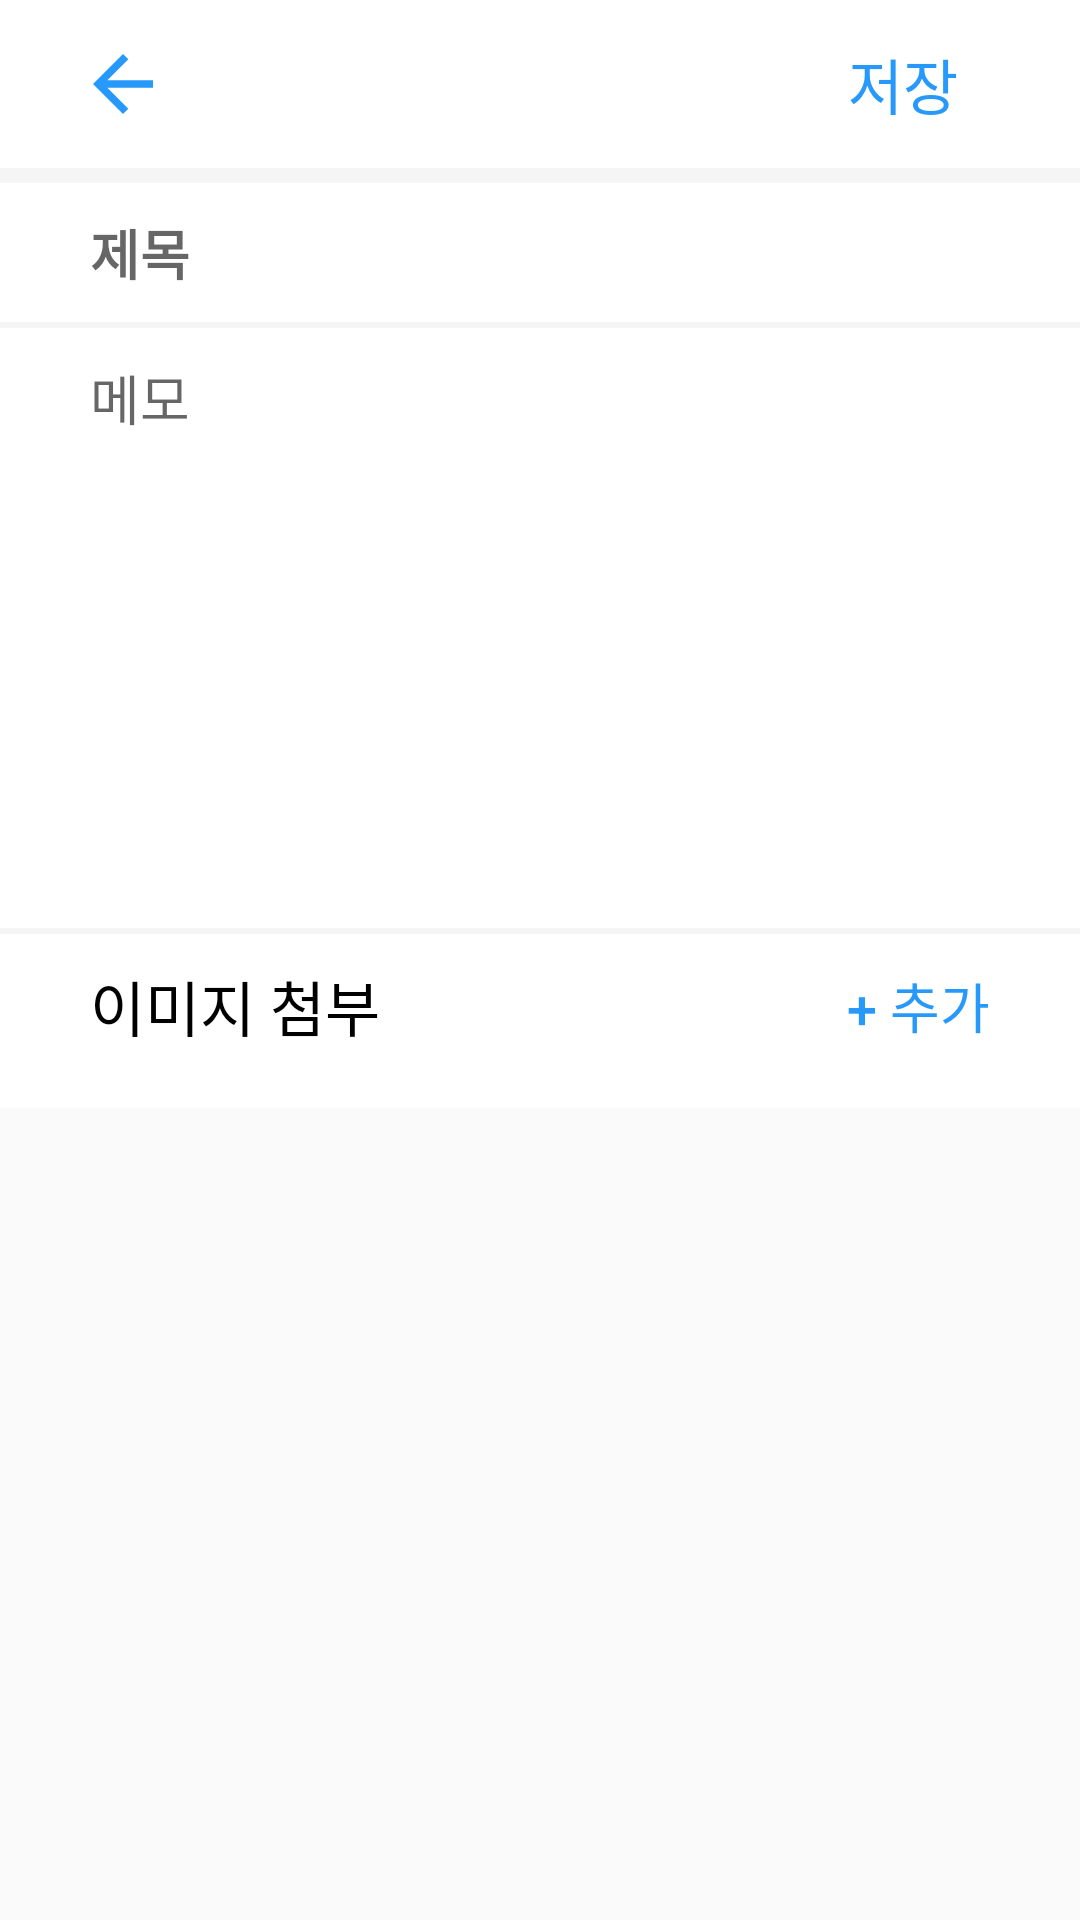

Named icons in this screenshot (1080*1920) and their centers, point (x, y):
arrow back: point (123, 84)
